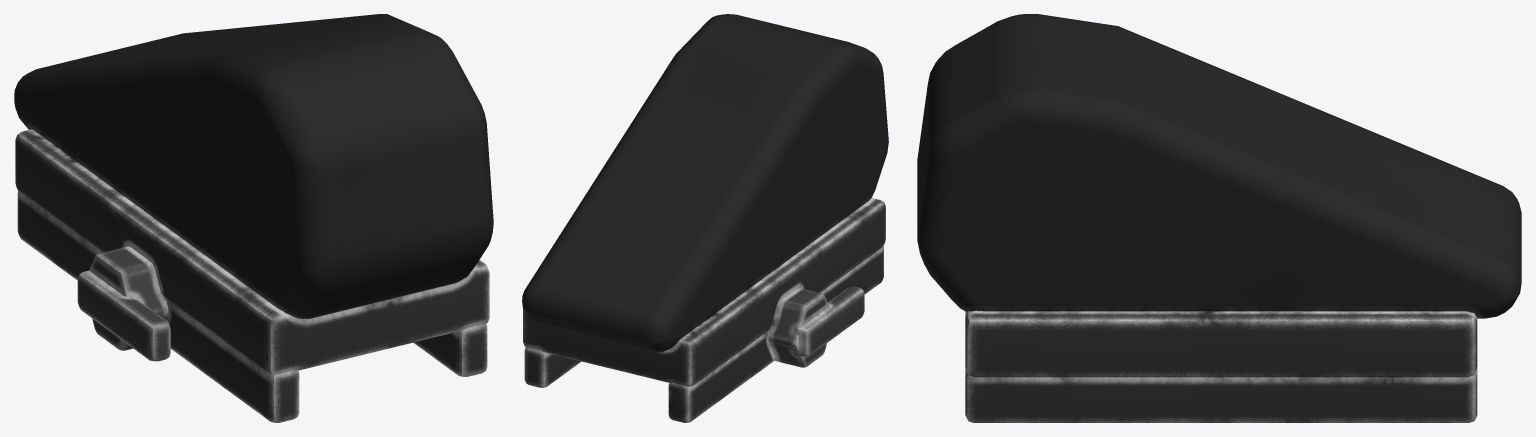
File: agrip.glb
3 views of the same model, side by side, from view 1: azimuth 30°, elevation 25°; view 2: azimuth 150°, elevation 25°; view 3: azimuth 270°, elevation 25° (orthographic). The views are drawn at different scales.
Visible parts, largest first — view 1: body; view 2: body; view 3: body.
Boxes of the visible parts, box(x1,y1,x2,y2) form: body: box(14, 14, 493, 422); body: box(522, 14, 888, 422); body: box(917, 14, 1521, 422).
Size of the model in its own units: 0.036 by 0.0418 by 0.0708.
Materials: 1 (1 with a texture image).
